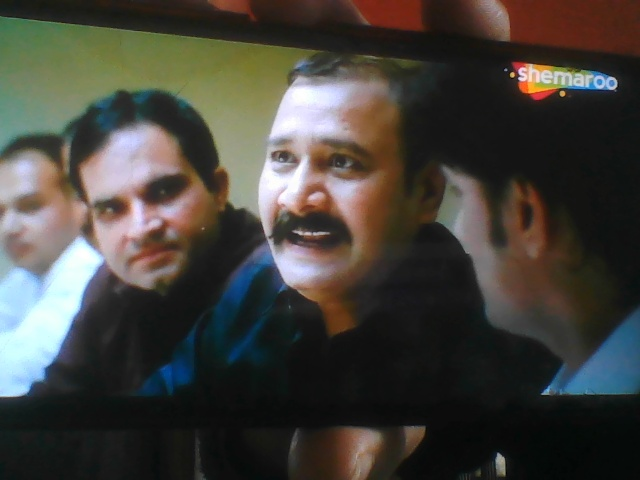fake: (245, 29, 431, 292), (79, 85, 231, 300)
